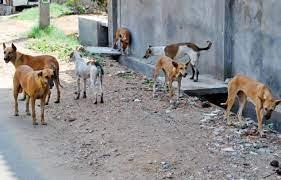dog_aggressive: (153, 56, 195, 106)
normal_dogs: (2, 36, 68, 105), (222, 72, 278, 132), (6, 67, 62, 127), (144, 40, 215, 80), (70, 44, 108, 106), (114, 22, 138, 57)
